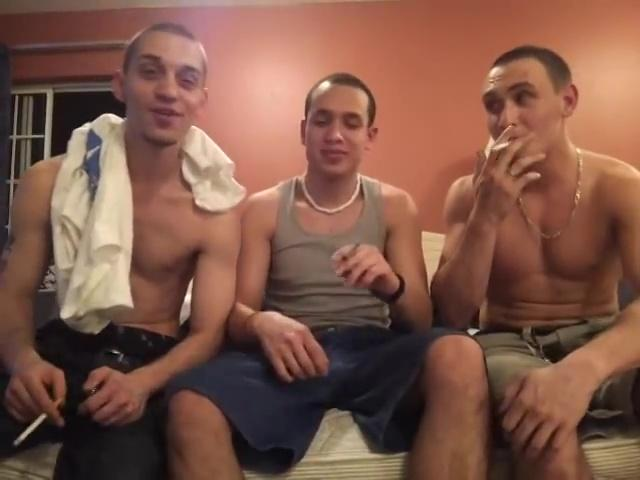cigarette: (11, 397, 65, 449), (490, 138, 520, 151), (344, 242, 360, 259)
